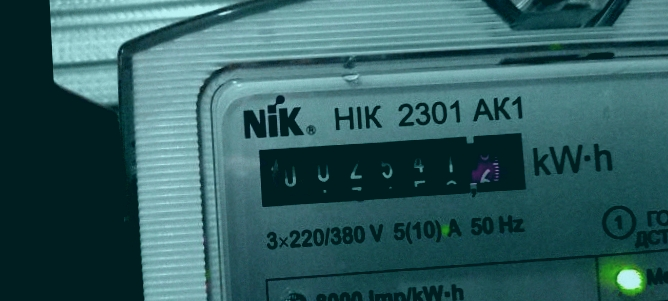0: (311, 150, 332, 184), (281, 158, 299, 188)
1: (439, 141, 457, 174)
2: (342, 147, 365, 182)
4: (408, 143, 427, 175)
5: (376, 148, 394, 181)
6: (475, 163, 492, 185)
screen: (242, 116, 546, 221)
